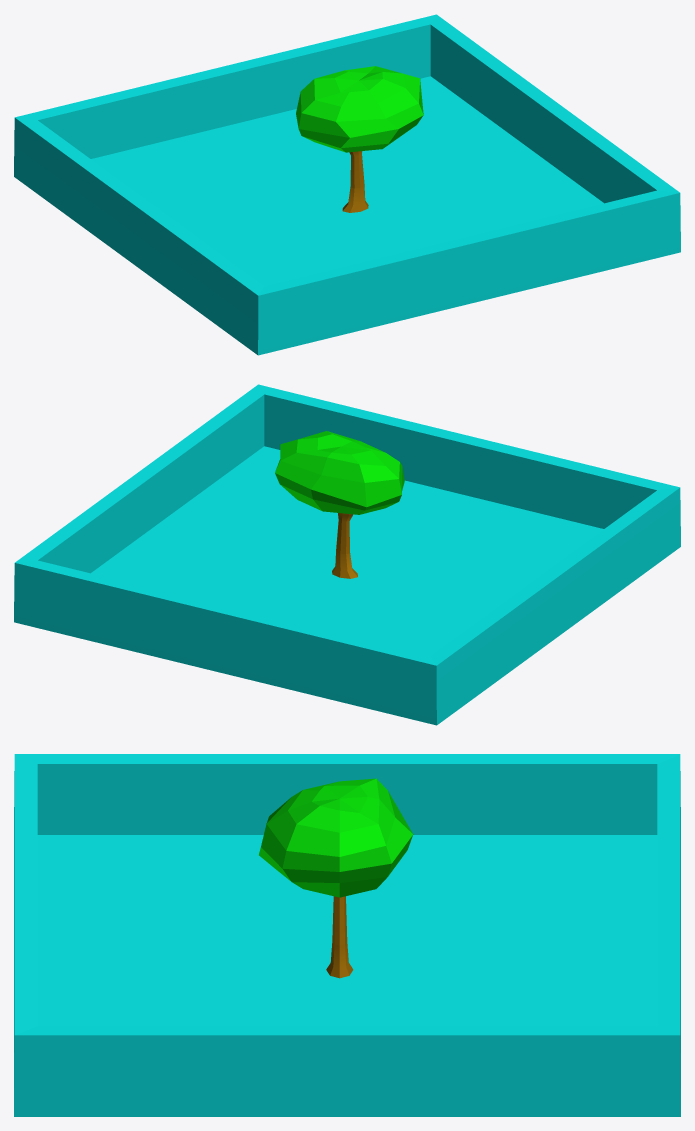
The model's file is Environment.fbx.
The picture shows the model from 3 angles, top to bottom: view 1: azimuth 30°, elevation 25°; view 2: azimuth 150°, elevation 25°; view 3: azimuth 270°, elevation 25°; orthographic projection. The views are drawn at different scales.
Parts seen in each view (by area): view 1: pCube1, pSphere1; view 2: pCube1, pSphere1; view 3: pCube1, pSphere1.
Part boxes in pixels (<box>): pCube1: <box>14,14,680,355</box>; pSphere1: <box>296,66,423,212</box>; pCube1: <box>14,384,680,725</box>; pSphere1: <box>275,431,404,578</box>; pCube1: <box>14,754,680,1116</box>; pSphere1: <box>259,778,413,978</box>.
Size of the model in its own units: 30.63 by 9.47 by 30.63.
